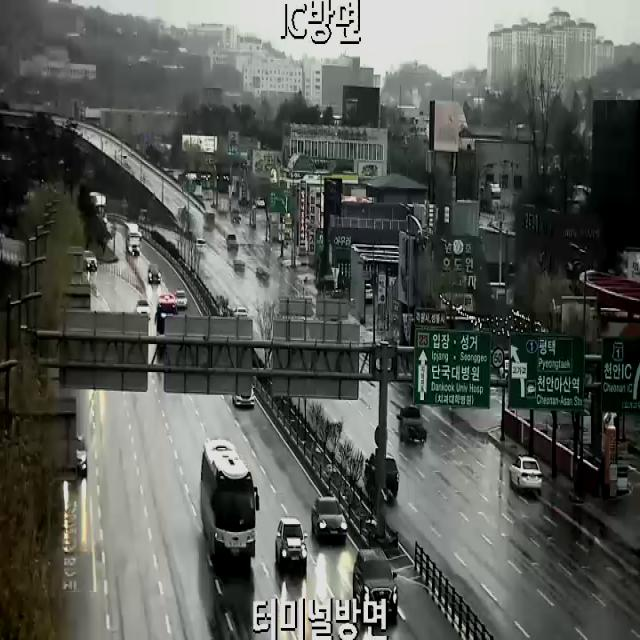Bus: (201, 438, 260, 560), (154, 293, 178, 350)
Car: (353, 549, 397, 619), (276, 518, 308, 566), (364, 453, 400, 495), (312, 498, 348, 538), (509, 454, 542, 490), (233, 384, 255, 405), (77, 436, 87, 477), (136, 300, 151, 320), (84, 251, 97, 271), (148, 264, 161, 284), (256, 266, 270, 281), (226, 235, 238, 252), (177, 291, 188, 309), (196, 238, 207, 253), (230, 209, 241, 224), (365, 284, 373, 302), (233, 260, 245, 272), (256, 197, 266, 208), (236, 307, 247, 315)
Truck: (396, 407, 426, 443), (125, 222, 142, 256)
